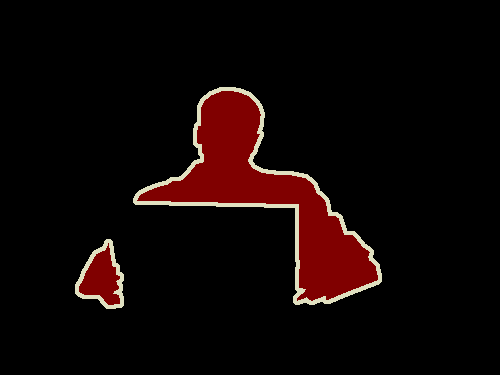person: (72, 89, 381, 307)
person/hand: (296, 283, 349, 304), (97, 251, 122, 294)
person/head: (195, 88, 266, 178)
